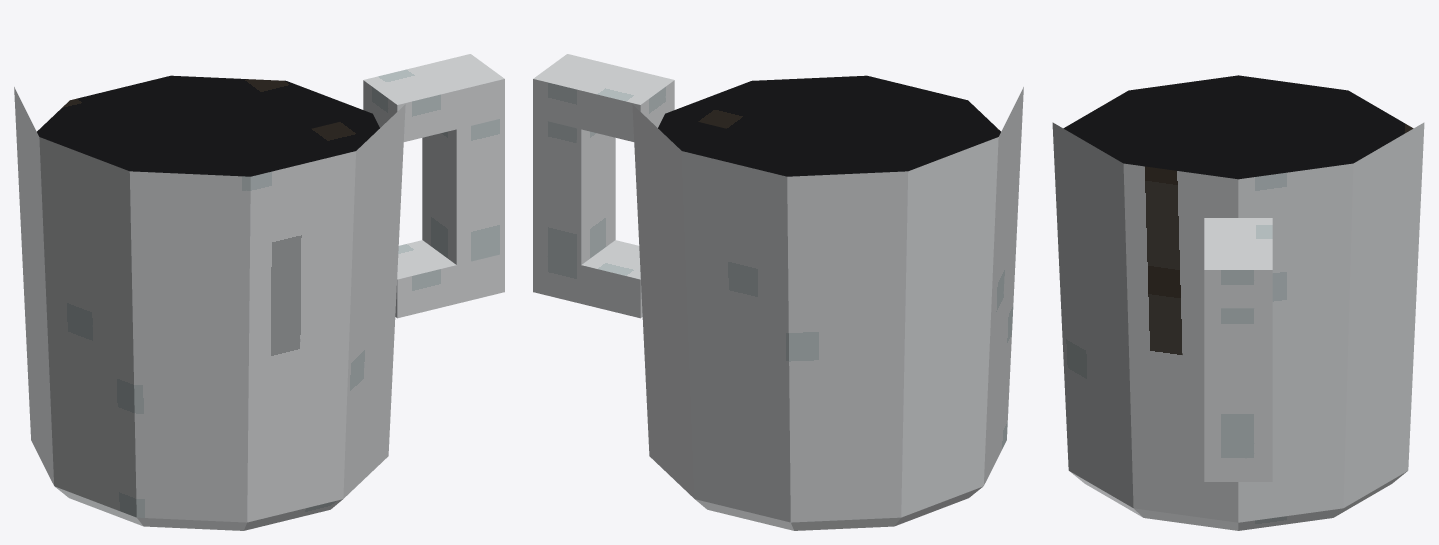
Rendered from SM_Prop_Mug_01.glb.
3 views of the same model, side by side, from view 1: azimuth 30°, elevation 25°; view 2: azimuth 150°, elevation 25°; view 3: azimuth 270°, elevation 25° (orthographic).
Parts seen in each view (by area): view 1: SM_Prop_Mug_01; view 2: SM_Prop_Mug_01; view 3: SM_Prop_Mug_01.
Part boxes in pixels (left/top/right/bottom): SM_Prop_Mug_01: left=14, top=54, right=504, bottom=530; SM_Prop_Mug_01: left=533, top=54, right=1023, bottom=530; SM_Prop_Mug_01: left=1052, top=75, right=1424, bottom=530.
Size of the model in its own units: 0.121 by 0.095 by 0.0875.
1 material, 1 textured.
